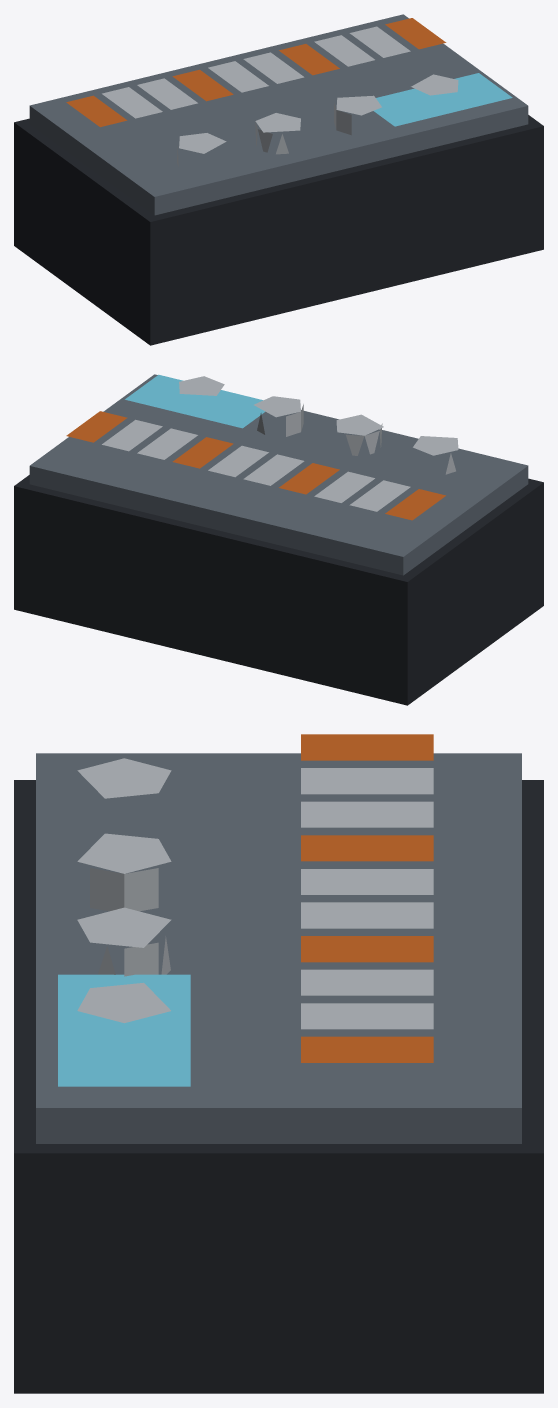
File: ommni-box.lod.glb
3 renders of one model, top to bottom at view 1: azimuth 30°, elevation 25°; view 2: azimuth 150°, elevation 25°; view 3: azimuth 270°, elevation 25°, orthographic. The views are drawn at different scales.
Parts seen in each view (by area): view 1: m; view 2: m; view 3: m.
Part boxes in pixels (x1,y1,x2,y2): m: (14, 14, 543, 345); m: (14, 374, 543, 705); m: (14, 734, 543, 1393).
Size of the model in its own units: 0.2 by 0.079 by 0.12.
